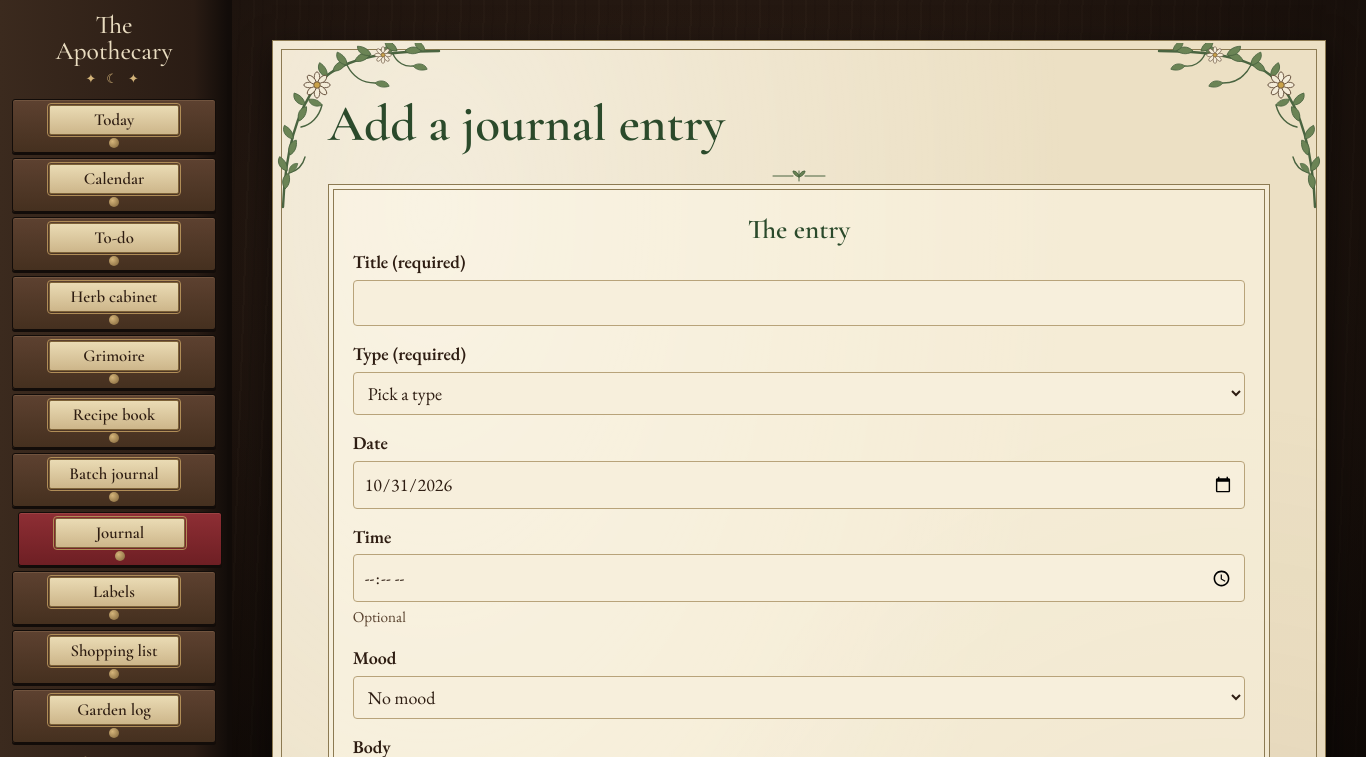
Test case: saves a new entry with the body shape, goes to the entry and says Saved
Expected: the heading "Add a journal entry" is shown, [328,96,725,152]
Type "  Moon walk " into the field labelled "Title (required)" at [799, 303], box [353,280,1245,326]
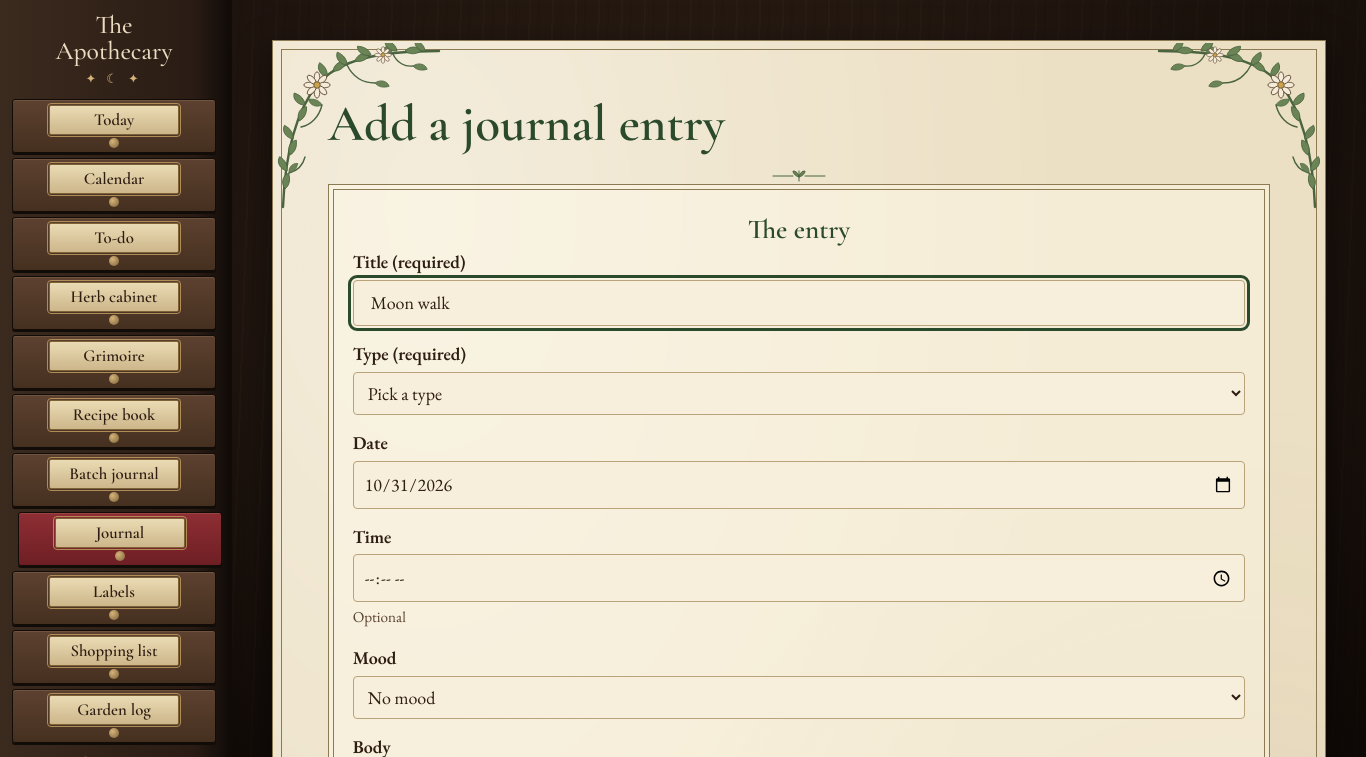
Select "Ritual" in the dropdown labelled "Type (required)" at [799, 393], box [353,372,1245,415]
(page scrolled)
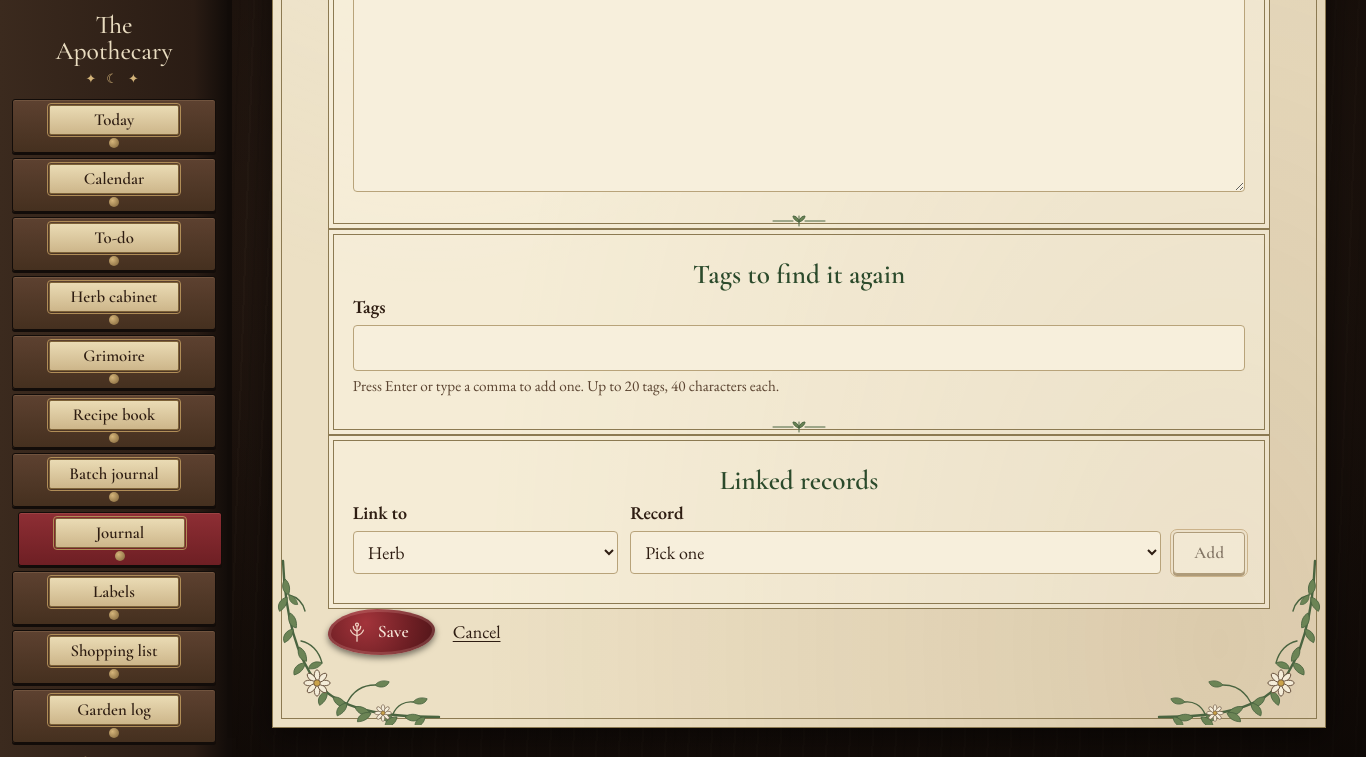
Click the button "Save" at [381, 632], box [328,609,435,655]
(page scrolled)
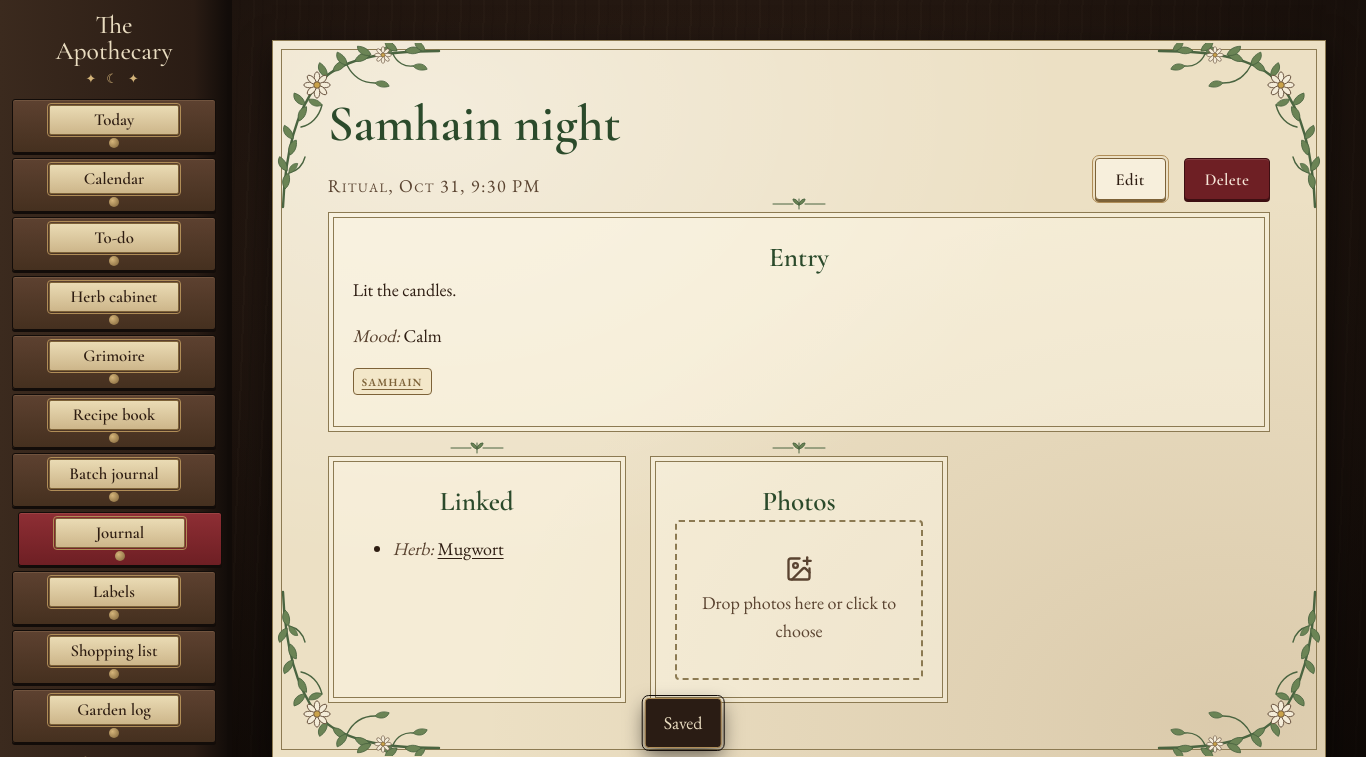
Expected: the text "Saved" is shown, [664,709,702,737]
